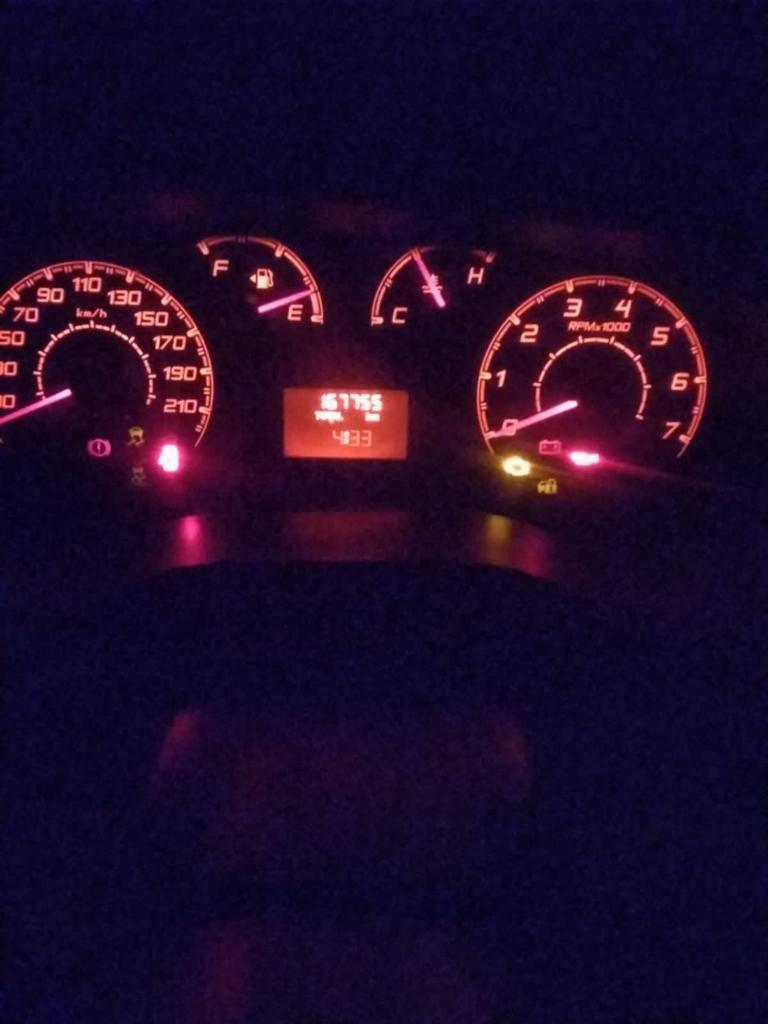1: (317, 392, 325, 409)
3: (360, 428, 371, 447), (349, 428, 359, 447)
4: (330, 428, 344, 445)
5: (371, 392, 383, 411), (360, 392, 371, 411)
6: (326, 392, 338, 410)
7: (338, 391, 350, 410), (350, 391, 359, 411)
X: (344, 430, 350, 445), (313, 410, 321, 421), (372, 412, 380, 422), (327, 411, 333, 424), (365, 411, 372, 422), (337, 411, 343, 421), (321, 411, 327, 420), (333, 411, 337, 422)
odometer: (276, 381, 413, 463)
